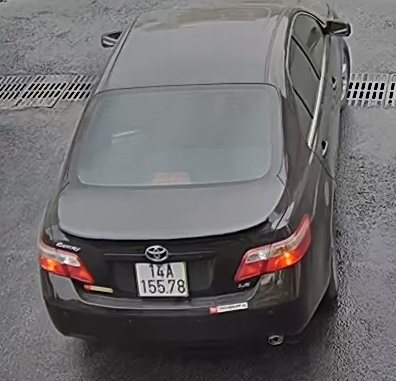vehicle plate: (133, 256, 189, 300)
